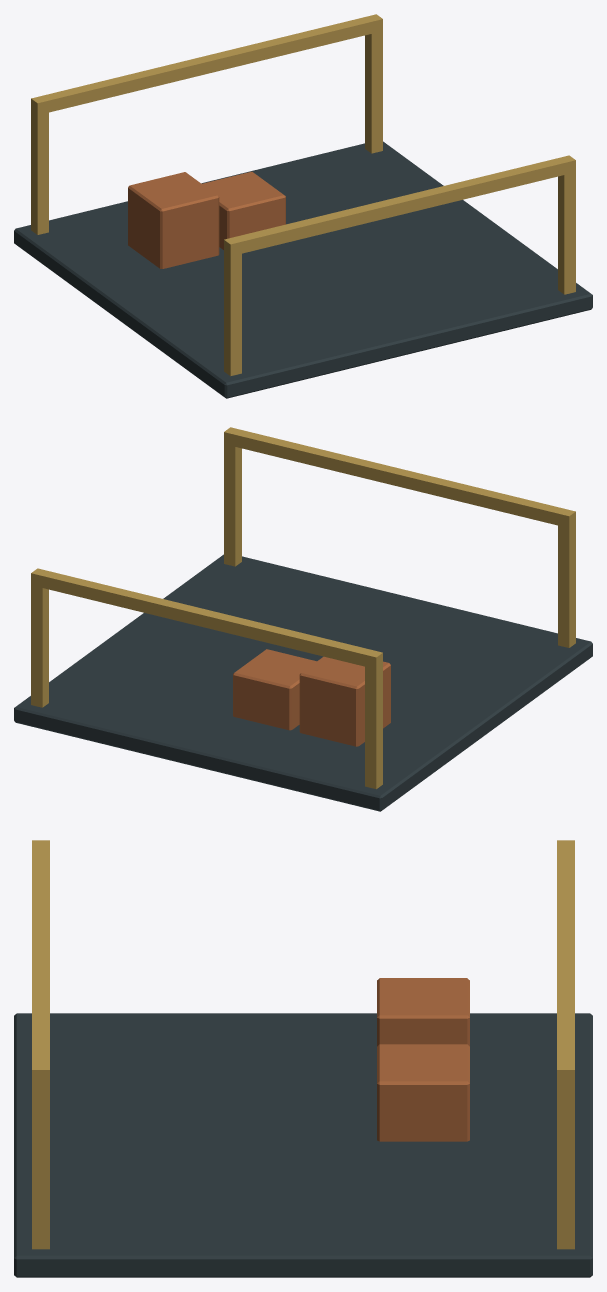
Rendered from construction-lod0.84d9ae71bdef.glb.
3 views of the same model, one above another, from view 1: azimuth 30°, elevation 25°; view 2: azimuth 150°, elevation 25°; view 3: azimuth 270°, elevation 25° (orthographic). The views are drawn at different scales.
Parts seen in each view (by area): view 1: body; view 2: body; view 3: body.
Boxes of the visible parts, left/top/right/bottom form: body: left=14, top=14, right=592, bottom=398; body: left=14, top=427, right=592, bottom=811; body: left=14, top=840, right=592, bottom=1277.
Bounding box in the file's own units: 3.86 × 1.48 × 3.86.
